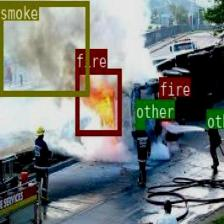fire: (74, 68, 120, 134), (159, 96, 170, 120)
smoke: (0, 0, 88, 96)
